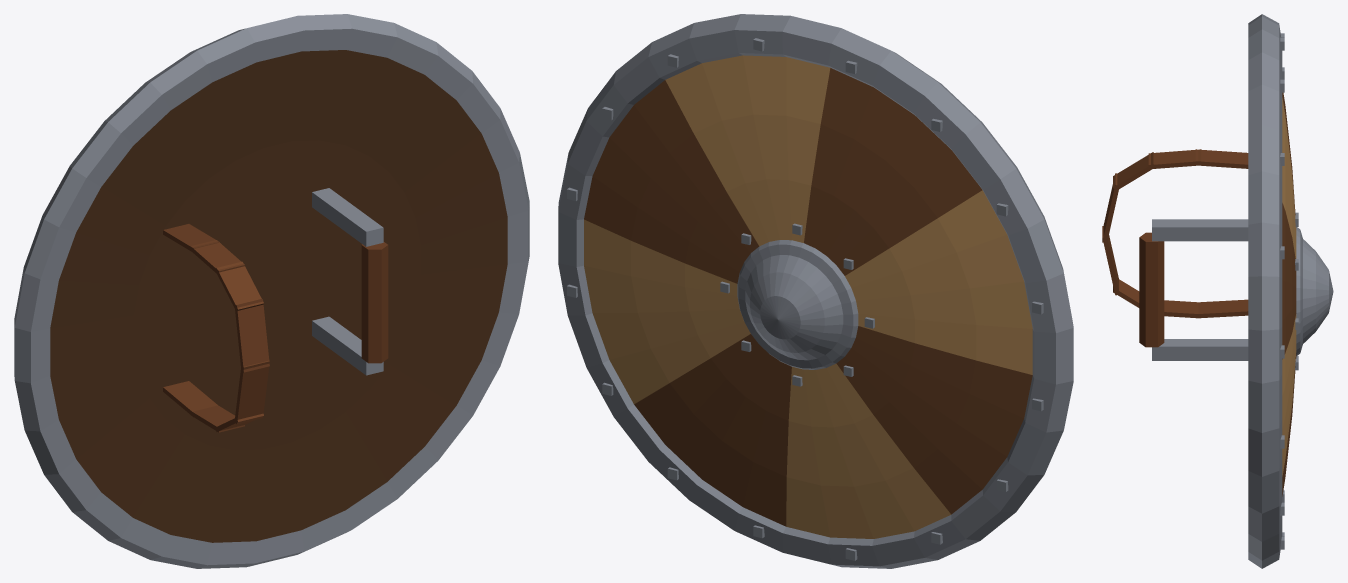
File: W2S_RoundShield.fbx
The picture shows the model from 3 angles, left to right: view 1: azimuth 30°, elevation 25°; view 2: azimuth 150°, elevation 25°; view 3: azimuth 270°, elevation 25°; orthographic projection. The views are drawn at different scales.
Parts seen in each view (by area): view 1: W2S_RoundShield; view 2: W2S_RoundShield; view 3: W2S_RoundShield.
Boxes of the visible parts, <box> form: W2S_RoundShield: <box>14,14,529,568</box>; W2S_RoundShield: <box>558,14,1073,568</box>; W2S_RoundShield: <box>1102,14,1333,568</box>.
Bounding box in the file's own units: 71.26 × 71.26 × 29.77.
